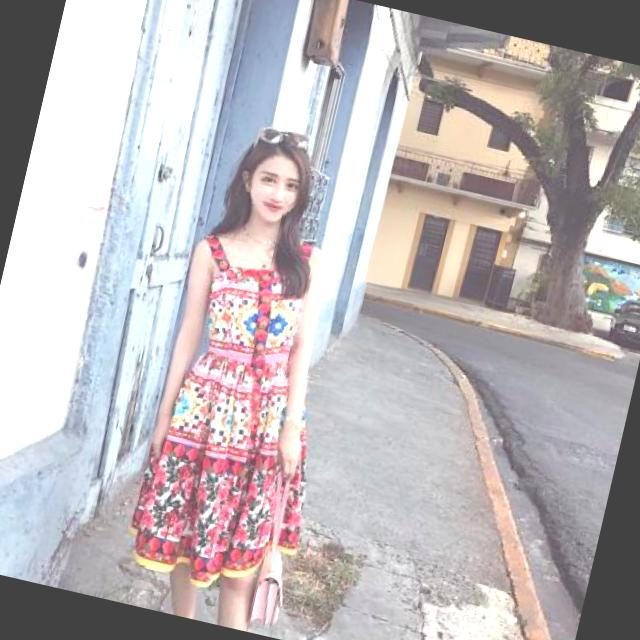Person: (76, 80, 406, 640)
